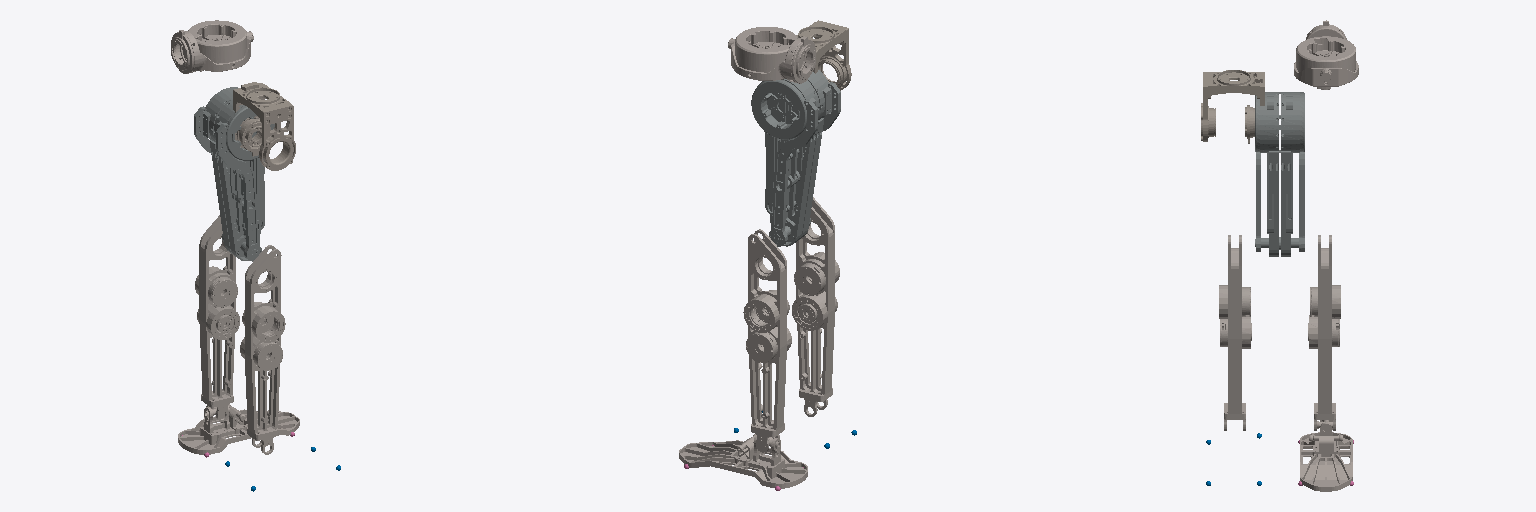
URDF robot description (biped_v3):
<?xml version="1.0" ?>
<!-- =================================================================================== -->
<!-- |    This document was autogenerated by xacro from [local-path]/workspace/kuavo-ros-control/src/humanoid-control/humanoid_interface_drake/models/biped_gen4.2/urdf/biped_v3.xacro | -->
<!-- |    EDITING THIS FILE BY HAND IS NOT RECOMMENDED                                 | -->
<!-- =================================================================================== -->
<robot name="biped_v3" xmlns:drake="https://drake.mit.edu">
  <link name="torso">
    <inertial>
      <origin rpy="0 0 0" xyz="-0.01779947 0.00029663 0.18176446"/>
      <mass value="35.24184316"/>
      <inertia ixx="0.84217451" ixy="-0.00019450" ixz="0.06746774" iyy="0.73769958" iyz="-0.00007935" izz="0.24371683"/>
    </inertial>
    <visual>
      <origin rpy="0 0 0" xyz="0 0 0"/>
      <geometry>
        <mesh filename="../../meshes/torso.STL"/>
      </geometry>
      <material name="">
        <color rgba="0.43137 0.45098 0.43137 1"/>
      </material>
    </visual>
    <!-- <collision>
      <origin xyz="0 0 0" rpy="0 0 0" />
      <geometry>
        <mesh filename="../../meshes/torso.STL" />
      </geometry>
    </collision> -->
  </link>
  <link name="l_leg_roll">
    <inertial>
      <origin rpy="0 0 0" xyz="-0.00430148 -0.00002708 -0.00851195"/>
      <mass value="1.71093115"/>
      <inertia ixx="0.00206092" ixy="-0.00000197" ixz="-0.00006944" iyy="0.00277274" iyz="0.00000510" izz="0.00370826"/>
    </inertial>
    <visual>
      <origin rpy="0 0 0" xyz="0 0 0"/>
      <geometry>
        <mesh filename="../../meshes/l_leg_roll.STL"/>
      </geometry>
      <material name="">
        <color rgba="0.6902 0.65882 0.63922 1"/>
      </material>
    </visual>
  </link>
  <joint name="l_leg_roll_joint" type="continuous">
    <origin rpy="0 0 0" xyz="-0.0024999 0.087 -0.066"/>
    <parent link="torso"/>
    <child link="l_leg_roll"/>
    <axis xyz="1 0 0"/>
    <limit effort="100" lower="-0.78" upper="1.57" velocity="25"/>
  </joint>
  <!--        ssss -->
  <transmission type="SimpleTransmission">
    <joint name="l_leg_roll_joint"/>
    <actuator name="l_leg_roll_motor"/>
  </transmission>
  <!-- sssssssss -->
  <link name="l_leg_yaw">
    <inertial>
      <origin rpy="0 0 0" xyz="0.00000000 -0.00322560 -0.09080869"/>
      <mass value="0.55762936"/>
      <inertia ixx="0.00213816" ixy="0.00000000" ixz="-0.00000003" iyy="0.00118284" iyz="0.00004162" izz="0.00139547"/>
    </inertial>
    <visual>
      <origin rpy="0 0 0" xyz="0 0 0"/>
      <geometry>
        <mesh filename="../../meshes/l_leg_yaw.STL"/>
      </geometry>
      <material name="">
        <color rgba="0.65098 0.61961 0.58824 1"/>
      </material>
    </visual>
  </link>
  <joint name="l_leg_yaw_joint" type="continuous">
    <origin rpy="0 0 0" xyz="0 0 0"/>
    <parent link="l_leg_roll"/>
    <child link="l_leg_yaw"/>
    <axis xyz="0 0 1"/>
    <limit effort="100" lower="-1.57" upper="1.57" velocity="25"/>
  </joint>
  <!--        ssss -->
  <transmission type="SimpleTransmission">
    <joint name="l_leg_yaw_joint"/>
    <actuator name="l_leg_yaw_motor"/>
  </transmission>
  <!-- sssssssss -->
  <link name="l_leg_pitch">
    <inertial>
      <origin rpy="0 0 0" xyz="0.00185677 0.01023458 -0.08558380"/>
      <mass value="4.43577451"/>
      <inertia ixx="0.04271209" ixy="-0.00000777" ixz="-0.00143032" iyy="0.04341831" iyz="-0.00092942" izz="0.01102339"/>
    </inertial>
    <visual>
      <origin rpy="0 0 0" xyz="0 0 0"/>
      <geometry>
        <mesh filename="../../meshes/l_leg_pitch.STL"/>
      </geometry>
      <material name="">
        <color rgba="0.52941 0.54902 0.54902 1"/>
      </material>
    </visual>
  </link>
  <joint name="l_leg_pitch_joint" type="continuous">
    <origin rpy="0 0 0" xyz="0 0.0 -0.1287"/>
    <parent link="l_leg_yaw"/>
    <child link="l_leg_pitch"/>
    <axis xyz="0 1 0"/>
    <limit effort="100" lower="-2.35" upper="0.78" velocity="47"/>
  </joint>
  <!--        ssss -->
  <transmission type="SimpleTransmission">
    <joint name="l_leg_pitch_joint"/>
    <actuator name="l_leg_pitch_motor"/>
  </transmission>
  <!-- sssssssss -->
  <link name="l_knee">
    <inertial>
      <origin rpy="0 0 0" xyz="0.00716677 -0.00006696 -0.11481925"/>
      <mass value="1.61274530"/>
      <inertia ixx="0.01103699" ixy="0.00000084" ixz="-0.00000711" iyy="0.01095123" iyz="0.00000987" izz="0.00087225"/>
    </inertial>
    <visual>
      <origin rpy="0 0 0" xyz="0 0 0"/>
      <geometry>
        <mesh filename="../../meshes/l_knee.STL"/>
      </geometry>
      <material name="">
        <color rgba="0.68627 0.65882 0.63922 1"/>
      </material>
    </visual>
  </link>
  <joint name="l_knee_pitch_joint" type="revolute">
    <origin rpy="0 0 0" xyz="0.0 0.0 -0.284"/>
    <parent link="l_leg_pitch"/>
    <child link="l_knee"/>
    <axis xyz="0 1 0"/>
    <limit effort="100" lower="0.0" upper="2.618" velocity="47"/>
  </joint>
  <!--        ssss -->
  <transmission type="SimpleTransmission">
    <joint name="l_knee_pitch_joint"/>
    <actuator name="l_knee_pitch_motor"/>
  </transmission>
  <!-- sssssssss -->
  <link name="l_foot_pitch">
    <inertial>
      <origin rpy="0 0 0" xyz="0.00000000 0.00000000 0"/>
      <mass value="0.07193524"/>
      <inertia ixx="0.00000692" ixy="0.00000000" ixz="0.00000000" iyy="0.00000692" iyz="0.00000000" izz="0.00001218"/>
    </inertial>
    <visual>
      <origin rpy="0 0 0" xyz="0 0 0"/>
      <geometry>
        <mesh filename="../../meshes/l_foot_pitch.STL"/>
      </geometry>
      <material name="">
        <color rgba="0.6902 0.65882 0.63922 1"/>
      </material>
    </visual>
  </link>
  <joint name="l_foot_pitch_joint" type="continuous">
    <origin rpy="0 0 0" xyz="0 0.0 -0.346"/>
    <parent link="l_knee"/>
    <child link="l_foot_pitch"/>
    <axis xyz="0 1 0"/>
    <limit effort="100" lower="-1.57" upper="1.57" velocity="25"/>
  </joint>
  <transmission type="SimpleTransmission">
    <joint name="l_foot_pitch_joint"/>
    <actuator name="l_foot_pitch_motor"/>
  </transmission>
  <!-- sssssssss -->
  <link name="l_foot_roll">
    <inertial>
      <origin rpy="0 0 0" xyz="0.03730703 -0.00000226 -0.03934407"/>
      <mass value="0.49004366"/>
      <inertia ixx="0.00037622" ixy="-0.00000003" ixz="-0.00004693" iyy="0.00157919" iyz="0.00000000" izz="0.00171680"/>
    </inertial>
    <visual>
      <origin rpy="0 0 0" xyz="0 0 0"/>
      <geometry>
        <mesh filename="../../meshes/l_foot_roll.STL"/>
      </geometry>
      <material name="">
        <color rgba="0.6902 0.65882 0.63922 1"/>
      </material>
    </visual>
    <visual>
      <origin rpy="0 0 0" xyz="-0.04937 0.04773 -0.0593"/>
      <geometry>
        <sphere radius="0.005"/>
      </geometry>
    </visual>
    <collision>
      <origin rpy="0 0 0" xyz="-0.04937 0.04773 -0.0593"/>
      <geometry>
        <sphere radius="0.005"/>
      </geometry>
    </collision>
    <visual>
      <origin rpy="0 0 0" xyz="-0.04937 -0.04773 -0.0593"/>
      <geometry>
        <sphere radius="0.005"/>
      </geometry>
    </visual>
    <collision>
      <origin rpy="0 0 0" xyz="-0.04937 -0.04773 -0.0593"/>
      <geometry>
        <sphere radius="0.005"/>
      </geometry>
    </collision>
    <visual>
      <origin rpy="0 0 0" xyz="0.13564 0.04773 -0.0593"/>
      <geometry>
        <sphere radius="0.005"/>
      </geometry>
    </visual>
    <collision>
      <origin rpy="0 0 0" xyz="0.13564 0.04773 -0.0593"/>
      <geometry>
        <sphere radius="0.005"/>
      </geometry>
    </collision>
    <visual>
      <origin rpy="0 0 0" xyz="0.13564 -0.04773 -0.0593"/>
      <geometry>
        <sphere radius="0.005"/>
      </geometry>
    </visual>
    <collision>
      <origin rpy="0 0 0" xyz="0.13564 -0.04773 -0.0593"/>
      <geometry>
        <sphere radius="0.005"/>
      </geometry>
    </collision>
  </link>
  <joint name="l_foot_roll_joint" type="continuous">
    <origin rpy="0 0 0" xyz="0 0 0"/>
    <parent link="l_foot_pitch"/>
    <child link="l_foot_roll"/>
    <axis xyz="1 0 0"/>
    <limit effort="100" lower="-1.39" upper="0.78" velocity="25"/>
  </joint>
  <transmission type="SimpleTransmission">
    <joint name="l_foot_roll_joint"/>
    <actuator name="l_foot_roll_motor"/>
  </transmission>
  <!-- sssssssss -->
  <frame link="l_foot_roll" name="l_foot_sole" xyz="0.04793 0.0 -0.0593"/>
  <frame link="l_foot_roll" name="l_foot_toe" xyz="0.16902 0.0 -0.0593"/>
  <frame link="l_foot_roll" name="l_foot_heel" xyz="-0.07316 0.0 -0.0593"/>
  <link name="r_leg_roll">
    <inertial>
      <origin rpy="0 0 0" xyz="0.00430146 0.00002709 -0.00851195"/>
      <mass value="1.71093008"/>
      <inertia ixx="0.00206092" ixy="0.00000197" ixz="-0.00006944" iyy="0.00277274" iyz="-0.00000510" izz="0.00370826"/>
    </inertial>
    <visual>
      <origin rpy="0 0 0" xyz="0 0 0"/>
      <geometry>
        <mesh filename="../../meshes/r_leg_roll.STL"/>
      </geometry>
      <material name="">
        <color rgba="0.6902 0.65882 0.63922 1"/>
      </material>
    </visual>
  </link>
  <joint name="r_leg_roll_joint" type="continuous">
    <origin rpy="0 0 0" xyz="-0.0024999 -0.087 -0.066"/>
    <parent link="torso"/>
    <child link="r_leg_roll"/>
    <axis xyz="1 0 0"/>
    <limit effort="100" lower="-1.57" upper="0.78" velocity="25"/>
  </joint>
  <!--        ssss -->
  <transmission type="SimpleTransmission">
    <joint name="r_leg_roll_joint"/>
    <actuator name="r_leg_roll_motor"/>
  </transmission>
  <!-- sssssssss -->
  <link name="r_leg_yaw">
    <inertial>
      <origin rpy="0 0 0" xyz="0.00000000 0.00322561 -0.09080869"/>
      <mass value="0.55762928"/>
      <inertia ixx="0.00213816" ixy="0.00000000" ixz="-0.00000003" iyy="0.00118284" iyz="-0.00004162" izz="0.00139547"/>
    </inertial>
    <visual>
      <origin rpy="0 0 0" xyz="0 0 0"/>
      <geometry>
        <mesh filename="../../meshes/r_leg_yaw.STL"/>
      </geometry>
      <material name="">
        <color rgba="0.650980392156863 0.619607843137255 0.588235294117647 1"/>
      </material>
    </visual>
  </link>
  <joint name="r_leg_yaw_joint" type="continuous">
    <origin rpy="0 0 0" xyz="0.0 0.0 0.0"/>
    <parent link="r_leg_roll"/>
    <child link="r_leg_yaw"/>
    <axis xyz="0 0 1"/>
    <limit effort="100" lower="-1.57" upper="1.57" velocity="25"/>
  </joint>
  <!--        ssss -->
  <transmission type="SimpleTransmission">
    <joint name="r_leg_yaw_joint"/>
    <actuator name="r_leg_yaw_motor"/>
  </transmission>
  <!-- sssssssss -->
  <link name="r_leg_pitch">
    <inertial>
      <origin rpy="0 0 0" xyz="0.00185677 -0.01023458 -0.08558380"/>
      <mass value="4.43577451"/>
      <inertia ixx="0.04271209" ixy="-0.00000777" ixz="-0.00143032" iyy="0.04420935" iyz="-0.00092942" izz="0.01102339"/>
    </inertial>
    <visual>
      <origin rpy="0 0 0" xyz="0 0 0"/>
      <geometry>
        <mesh filename="../../meshes/r_leg_pitch.STL"/>
      </geometry>
      <material name="">
        <color rgba="0.529411764705882 0.549019607843137 0.549019607843137 1"/>
      </material>
    </visual>
  </link>
  <joint name="r_leg_pitch_joint" type="continuous">
    <origin rpy="0 0 0" xyz="0 0 -0.1287"/>
    <parent link="r_leg_yaw"/>
    <child link="r_leg_pitch"/>
    <axis xyz="0 1 0"/>
    <limit effort="100" lower="-2.35" upper="0.78" velocity="47"/>
  </joint>
  <!--        ssss -->
  <transmission type="SimpleTransmission">
    <joint name="r_leg_pitch_joint"/>
    <actuator name="r_leg_pitch_motor"/>
  </transmission>
  <!-- sssssssss -->
  <link name="r_knee">
    <inertial>
      <origin rpy="0 0 0" xyz="0.00716677 0.00006696 -0.11481925"/>
      <mass value="1.61274530"/>
      <inertia ixx="0.01103699" ixy="0.00000084" ixz="-0.00000711" iyy="0.01095123" iyz="0.00000987" izz="0.00087225"/>
    </inertial>
    <visual>
      <origin rpy="0 0 0" xyz="0 0 0"/>
      <geometry>
        <mesh filename="../../meshes/r_knee.STL"/>
      </geometry>
      <material name="">
        <color rgba="0.686274509803922 0.658823529411765 0.63921568627451 1"/>
      </material>
    </visual>
  </link>
  <joint name="r_knee_pitch_joint" type="revolute">
    <origin rpy="0 0 0" xyz="0 0 -0.284"/>
    <parent link="r_leg_pitch"/>
    <child link="r_knee"/>
    <axis xyz="0 1 0"/>
    <limit effort="100" lower="0.0" upper="2.618" velocity="47"/>
  </joint>
  <!--        ssss -->
  <transmission type="SimpleTransmission">
    <joint name="r_knee_pitch_joint"/>
    <actuator name="r_knee_pitch_motor"/>
  </transmission>
  <!-- sssssssss -->
  <link name="r_foot_pitch">
    <inertial>
      <origin rpy="0 0 0" xyz="0 0.00000000 0"/>
      <mass value="0.07193524"/>
      <inertia ixx="0.00000692" ixy="0" ixz="0" iyy="0.00000692" iyz="0" izz="0.00001218"/>
    </inertial>
    <visual>
      <origin rpy="0 0 0" xyz="0 0 0"/>
      <geometry>
        <mesh filename="../../meshes/r_foot_pitch.STL"/>
      </geometry>
      <material name="">
        <color rgba="0.690196078431373 0.658823529411765 0.63921568627451 1"/>
      </material>
    </visual>
  </link>
  <joint name="r_foot_pitch_joint" type="continuous">
    <origin rpy="0 0 0" xyz="0 0 -0.346"/>
    <parent link="r_knee"/>
    <child link="r_foot_pitch"/>
    <axis xyz="0 1 0"/>
    <limit effort="100" lower="-1.57" upper="1.57" velocity="25"/>
  </joint>
  <!--        ssss -->
  <transmission type="SimpleTransmission">
    <joint name="r_foot_pitch_joint"/>
    <actuator name="r_foot_pitch_motor"/>
  </transmission>
  <!-- sssssssss -->
  <link name="r_foot_roll">
    <inertial>
      <origin rpy="0 0 0" xyz="0.03730703 0.00000225 -0.03934407"/>
      <mass value="0.49004366"/>
      <inertia ixx="0.00037622" ixy="0.00000003" ixz="-0.00004693" iyy="0.00157919" iyz="0.00000000" izz="0.00171680"/>
    </inertial>
    <visual>
      <origin rpy="0 0 0" xyz="0 0 0"/>
      <geometry>
        <mesh filename="../../meshes/r_foot_roll.STL"/>
      </geometry>
      <material name="">
        <color rgba="0.690196078431373 0.658823529411765 0.63921568627451 1"/>
      </material>
    </visual>
    <visual>
      <origin rpy="0 0 0" xyz="-0.04937 0.04773 -0.0465"/>
      <geometry>
        <sphere radius="0.005"/>
      </geometry>
    </visual>
    <collision>
      <origin rpy="0 0 0" xyz="-0.04937 0.04773 -0.0593"/>
      <geometry>
        <sphere radius="0.005"/>
      </geometry>
    </collision>
    <visual>
      <origin rpy="0 0 0" xyz="-0.04937 -0.04773 -0.0593"/>
      <geometry>
        <sphere radius="0.005"/>
      </geometry>
    </visual>
    <collision>
      <origin rpy="0 0 0" xyz="-0.04937 -0.04773 -0.0593"/>
      <geometry>
        <sphere radius="0.005"/>
      </geometry>
    </collision>
    <visual>
      <origin rpy="0 0 0" xyz="0.13564 0.04773 -0.0593"/>
      <geometry>
        <sphere radius="0.005"/>
      </geometry>
    </visual>
    <collision>
      <origin rpy="0 0 0" xyz="0.13564 0.04773 -0.0593"/>
      <geometry>
        <sphere radius="0.005"/>
      </geometry>
    </collision>
    <visual>
      <origin rpy="0 0 0" xyz="0.13564 -0.04773 -0.0593"/>
      <geometry>
        <sphere radius="0.005"/>
      </geometry>
    </visual>
    <collision>
      <origin rpy="0 0 0" xyz="0.13564 -0.04773 -0.0593"/>
      <geometry>
        <sphere radius="0.005"/>
      </geometry>
    </collision>
  </link>
  <joint name="r_foot_roll_joint" type="continuous">
    <origin rpy="0 0 0" xyz="0 0 0"/>
    <parent link="r_foot_pitch"/>
    <child link="r_foot_roll"/>
    <axis xyz="1 0 0"/>
    <limit effort="100" lower="-1.39" upper="0.78" velocity="25"/>
  </joint>
  <!--        ssss -->
  <transmission type="SimpleTransmission">
    <joint name="r_foot_roll_joint"/>
    <actuator name="r_foot_roll_motor"/>
  </transmission>
  <!-- sssssssss -->
  <frame link="r_foot_roll" name="r_foot_sole" xyz="0.04793 0.0 -0.0593"/>
  <frame link="r_foot_roll" name="r_foot_toe" xyz="0.16902 0.0 -0.0593"/>
  <frame link="r_foot_roll" name="r_foot_heel" xyz="-0.07316 -0.0 -0.0593"/>
</robot>

--- Facts derived from the render (not from the file) ---
Views: 3 orthographic renders of the robot side by side, from view 1: azimuth 30°, elevation 25°; view 2: azimuth 150°, elevation 25°; view 3: azimuth 270°, elevation 25°.
Model biped_v3 with 13 links and 12 joints (2 revolute, 10 continuous), rooted at torso, posed every joint at zero.
Links seen in each view (by area): view 1: r_knee, l_knee, r_leg_pitch, r_leg_yaw, l_leg_roll, l_leg_pitch, l_foot_roll; view 2: l_knee, r_knee, r_leg_pitch, l_leg_pitch, l_leg_roll, l_foot_roll, r_leg_yaw; view 3: r_knee, l_knee, l_leg_pitch, r_leg_pitch, l_leg_roll, l_foot_roll, r_leg_yaw.
Boxes of the visible links, x1,y1,x2,y2 form: r_knee: [240, 245, 285, 454]; l_knee: [195, 215, 239, 421]; r_leg_pitch: [203, 87, 264, 261]; r_leg_yaw: [233, 82, 295, 170]; l_leg_roll: [171, 20, 253, 73]; l_leg_pitch: [194, 99, 274, 260]; l_foot_roll: [178, 404, 299, 457]; l_knee: [743, 229, 791, 452]; r_knee: [792, 197, 839, 416]; r_leg_pitch: [751, 79, 840, 246]; l_leg_pitch: [765, 70, 831, 246]; l_leg_roll: [728, 27, 815, 83]; l_foot_roll: [679, 434, 807, 490]; r_leg_yaw: [797, 20, 851, 90]; r_knee: [1219, 235, 1251, 430]; l_knee: [1308, 235, 1340, 430]; l_leg_pitch: [1255, 92, 1304, 256]; r_leg_pitch: [1255, 92, 1304, 256]; l_leg_roll: [1294, 20, 1358, 89]; l_foot_roll: [1298, 420, 1353, 491]; r_leg_yaw: [1201, 70, 1264, 143].
Bounding box of the posed robot: 0.2551 × 0.2975 × 0.8695 m (x, y, z).
Meshes: 13 distinct files referenced, 8 mesh visuals loaded (8 binary STL); not drawn: 5 (reference not matched to a file when rendering).